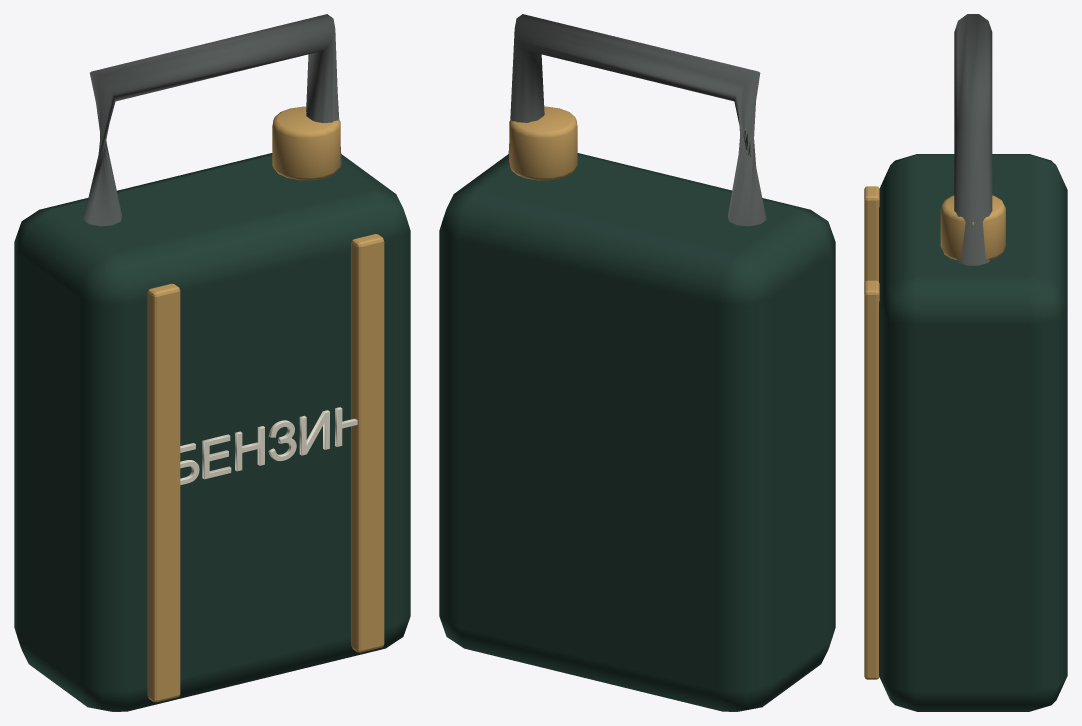
The model's file is Prop_Fuel_Can_01_LOD0.fbx.
The picture shows the model from 3 angles, left to right: view 1: azimuth 30°, elevation 25°; view 2: azimuth 150°, elevation 25°; view 3: azimuth 270°, elevation 25°; orthographic projection. The views are drawn at different scales.
Parts seen in each view (by area): view 1: Prop_Fuel_Can_01_Body_OPT, Prop_Fuel_Can_01_OPT_Merged_RB_Brass_Aged_OPT_DATA, Prop_Fuel_Can_01_Handle_OPT, Prop_Fuel_Can_01_Label_OPT; view 2: Prop_Fuel_Can_01_Body_OPT, Prop_Fuel_Can_01_Handle_OPT, Prop_Fuel_Can_01_OPT_Merged_RB_Brass_Aged_OPT_DATA; view 3: Prop_Fuel_Can_01_Body_OPT, Prop_Fuel_Can_01_OPT_Merged_RB_Brass_Aged_OPT_DATA, Prop_Fuel_Can_01_Handle_OPT.
Boxes of the visible parts, x1,y1,x2,y2 form: Prop_Fuel_Can_01_Body_OPT: (14,153,410,711); Prop_Fuel_Can_01_OPT_Merged_RB_Brass_Aged_OPT_DATA: (147,106,384,702); Prop_Fuel_Can_01_Handle_OPT: (83,14,341,226); Prop_Fuel_Can_01_Label_OPT: (180,407,357,485); Prop_Fuel_Can_01_Body_OPT: (439,153,835,711); Prop_Fuel_Can_01_Handle_OPT: (508,14,766,226); Prop_Fuel_Can_01_OPT_Merged_RB_Brass_Aged_OPT_DATA: (509,106,577,180); Prop_Fuel_Can_01_Body_OPT: (879,154,1067,711); Prop_Fuel_Can_01_OPT_Merged_RB_Brass_Aged_OPT_DATA: (864,186,1005,679); Prop_Fuel_Can_01_Handle_OPT: (954,14,992,265).
Bounding box in the file's own units: 42 × 74.82 × 23.7.
